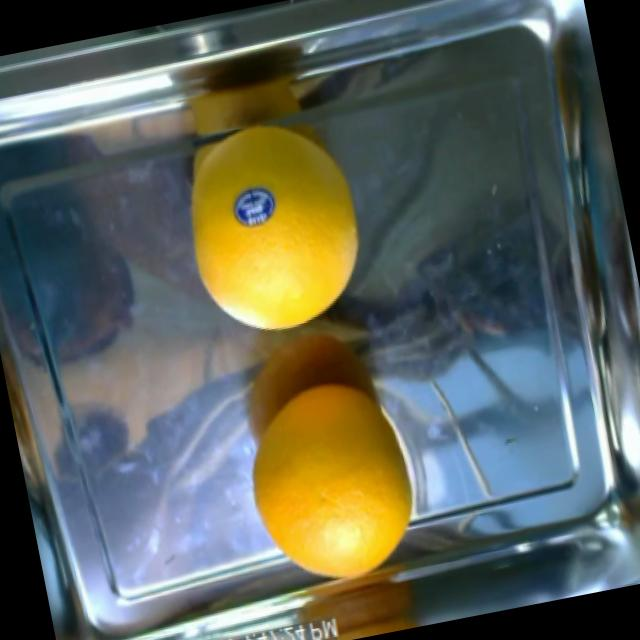Fruit: (224, 374, 441, 606), (175, 149, 391, 358), (227, 180, 283, 236)
